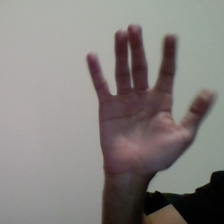left: (83, 17, 222, 179)
